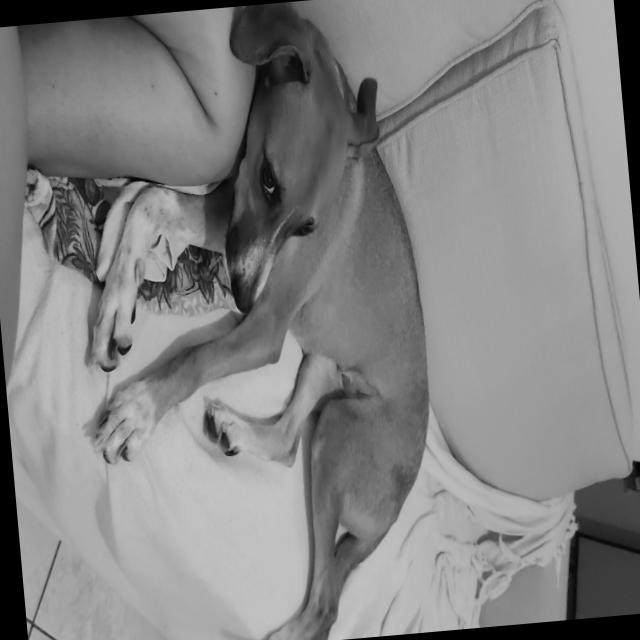laying down: (53, 0, 455, 640)
